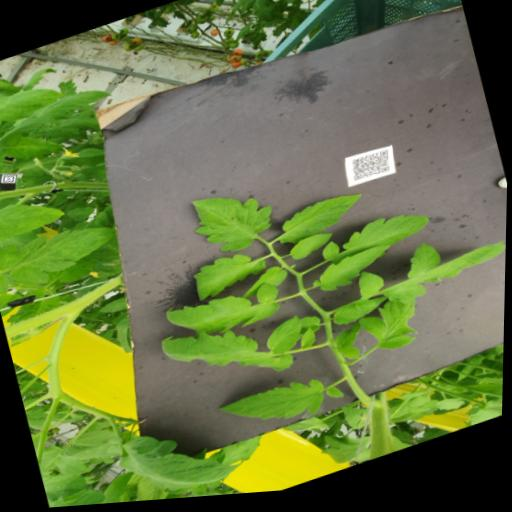Healthy: (157, 295, 313, 410), (113, 406, 250, 505), (376, 222, 508, 317), (0, 208, 129, 300), (162, 275, 285, 354), (178, 175, 281, 269), (216, 373, 332, 447), (318, 207, 434, 273), (270, 190, 371, 255), (309, 245, 397, 302), (189, 246, 270, 306), (0, 178, 70, 247), (356, 298, 428, 365), (0, 72, 67, 132), (329, 296, 392, 333), (236, 266, 291, 303), (285, 232, 338, 267), (354, 270, 387, 306), (334, 343, 363, 371), (297, 329, 318, 355)
